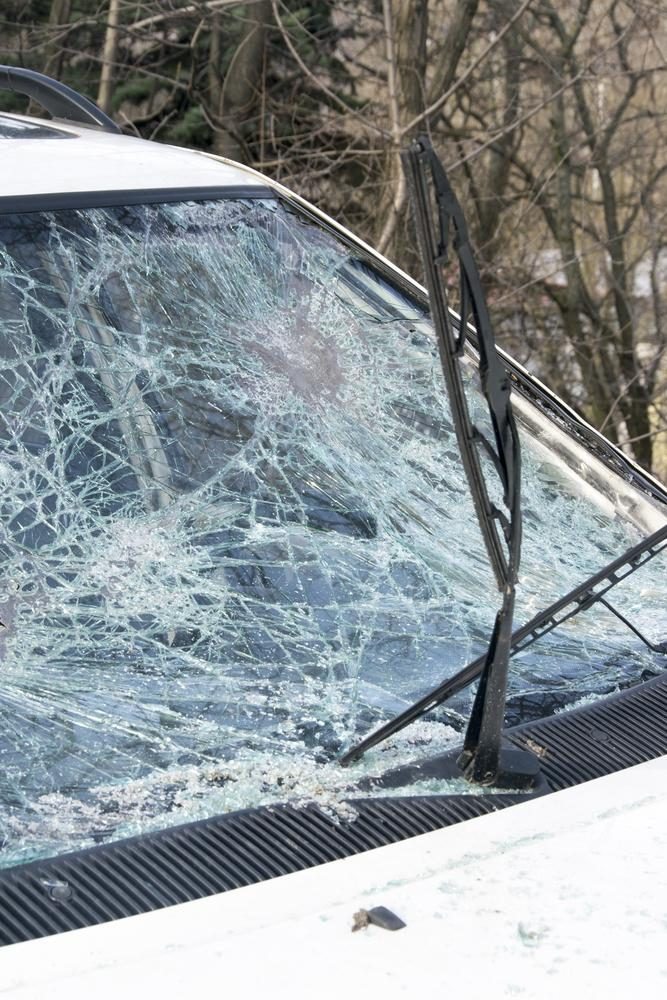glass shatter: (0, 193, 667, 871)
